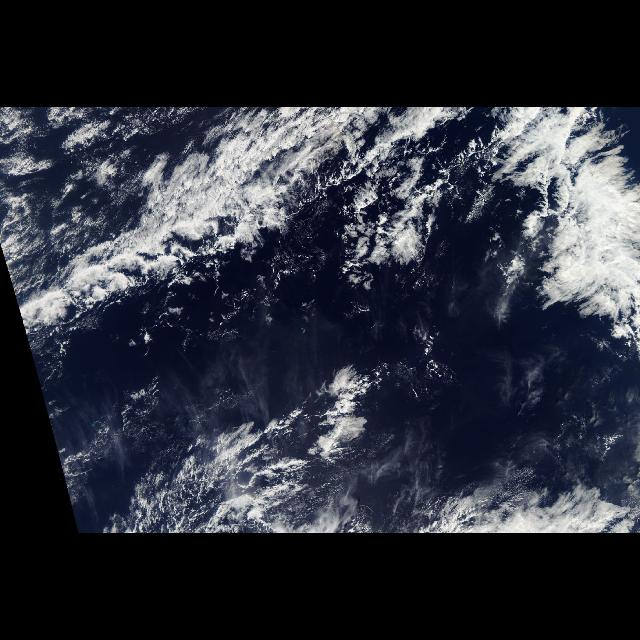Fish: (9, 109, 464, 363), (503, 124, 639, 330), (127, 446, 365, 532)
Gravel: (322, 159, 500, 249)
